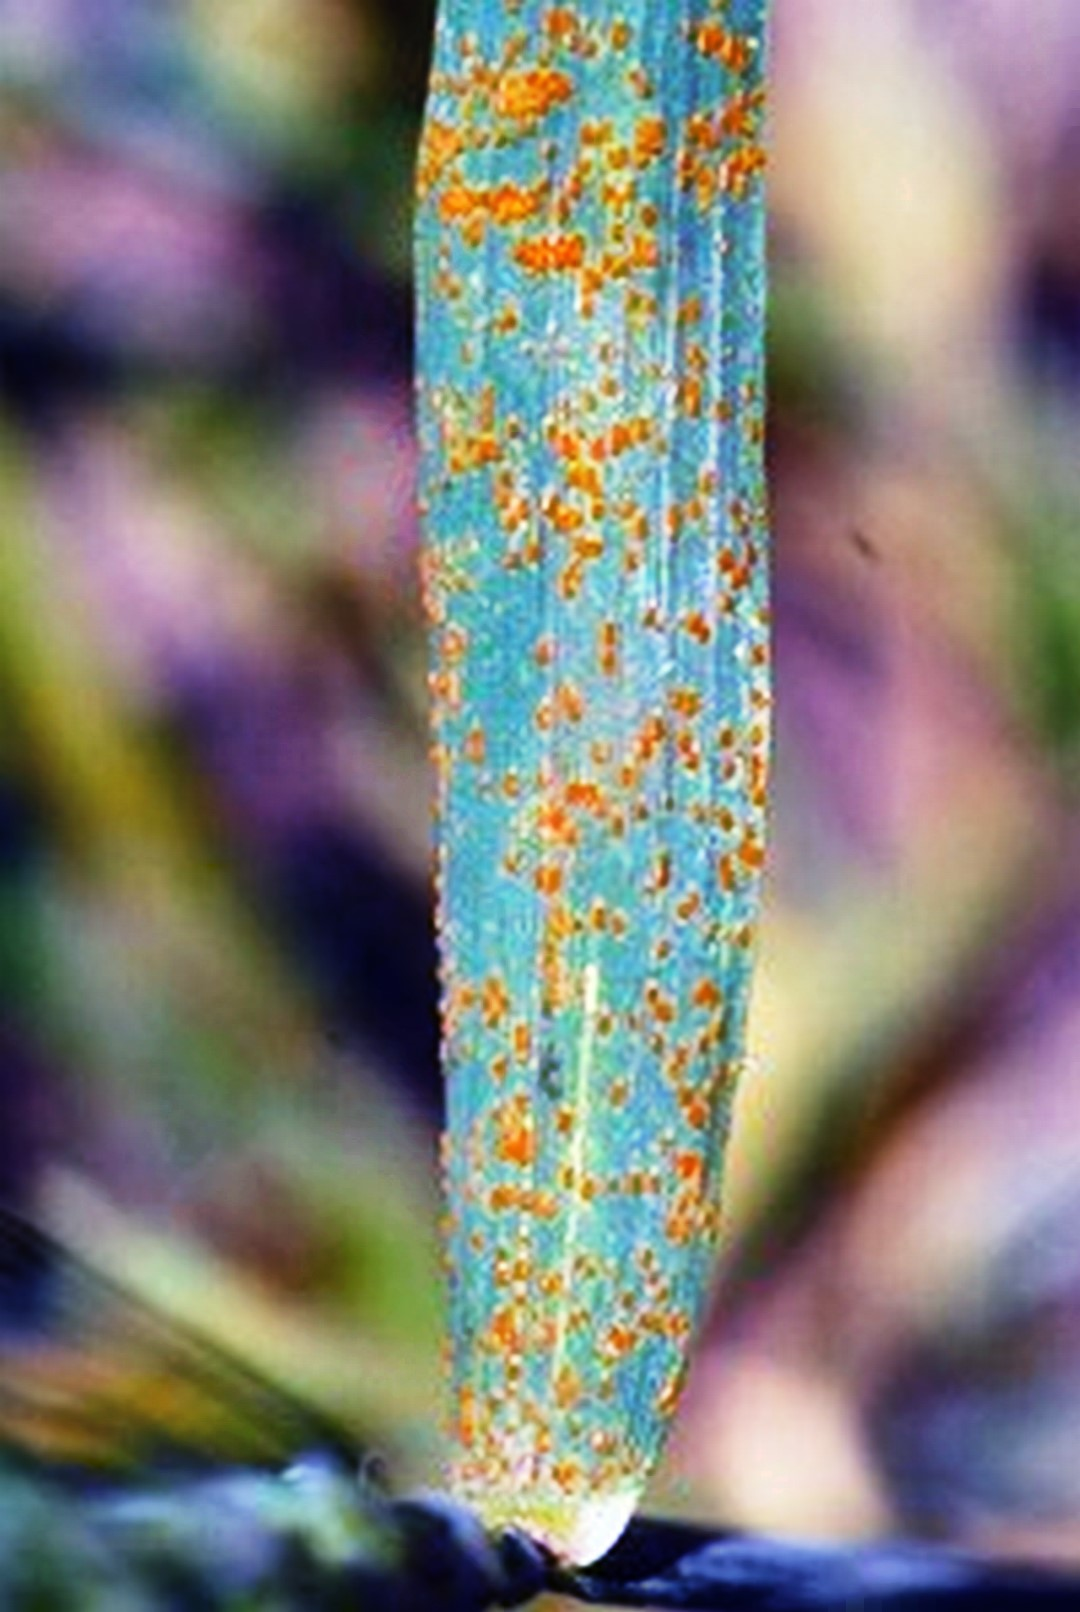Leaf Rust: (377, 45, 759, 1449)
